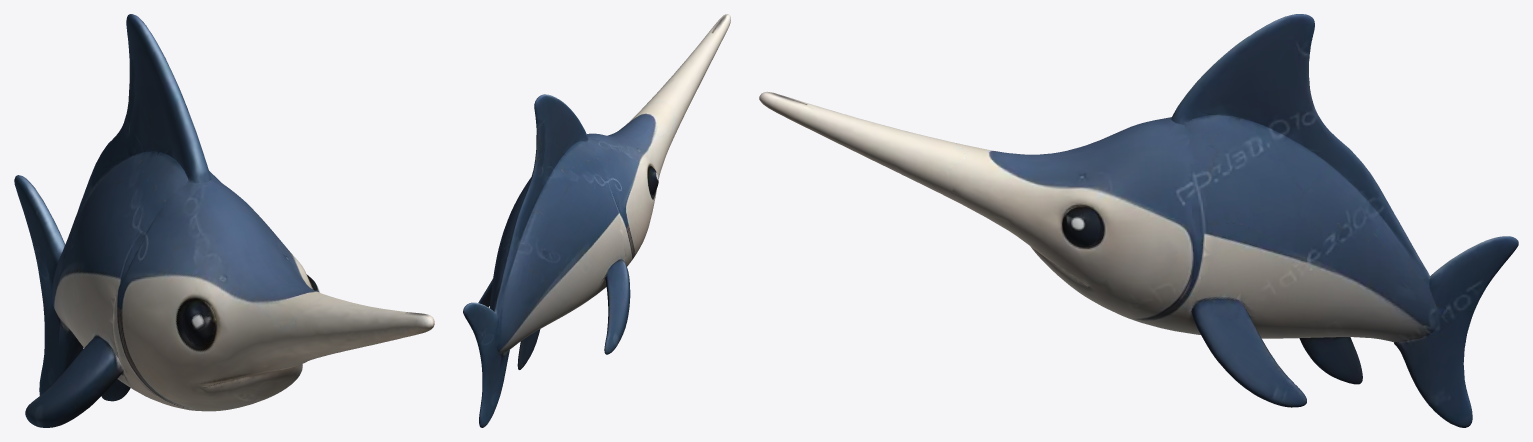
Rendered from swardfish_pbr.glb.
3 renders of one model, left to right at view 1: azimuth 30°, elevation 25°; view 2: azimuth 150°, elevation 25°; view 3: azimuth 270°, elevation 25°, orthographic. The views are drawn at different scales.
Parts seen in each view (by area): view 1: model; view 2: model; view 3: model.
Part boxes in pixels (box(x1,y1,x2,y2)): model: box(14, 14, 434, 427); model: box(463, 14, 730, 427); model: box(759, 14, 1518, 427).
Size of the model in its own units: 0.5393 by 1.07 by 1.78.
1 material, 1 textured.
